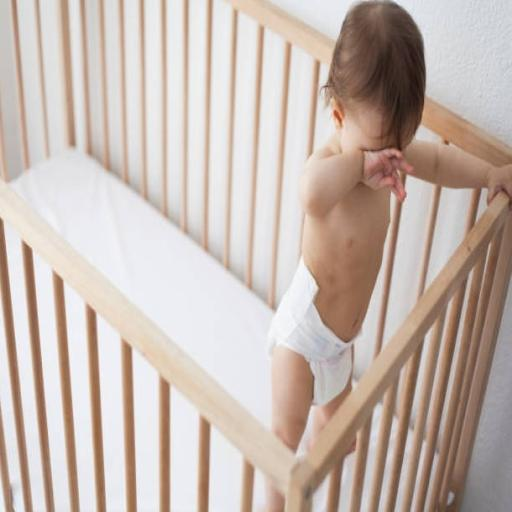baby: (269, 2, 511, 450)
crib: (0, 0, 511, 510)
